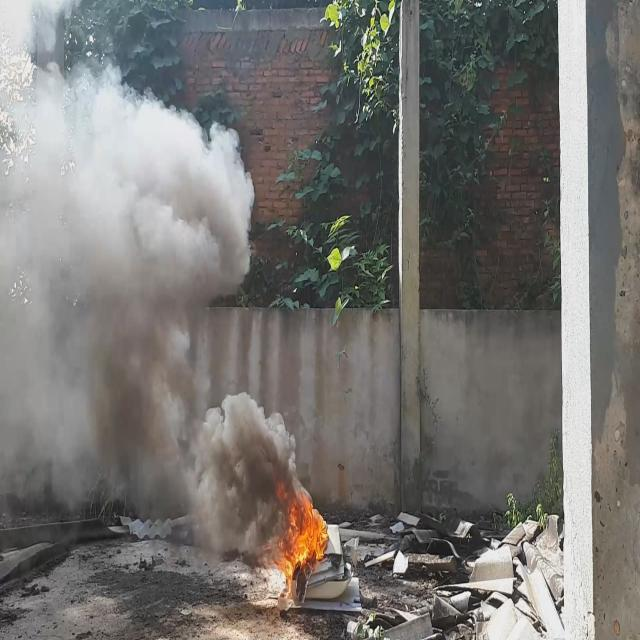Fire: (274, 474, 332, 592)
Smoke: (0, 61, 298, 561)
